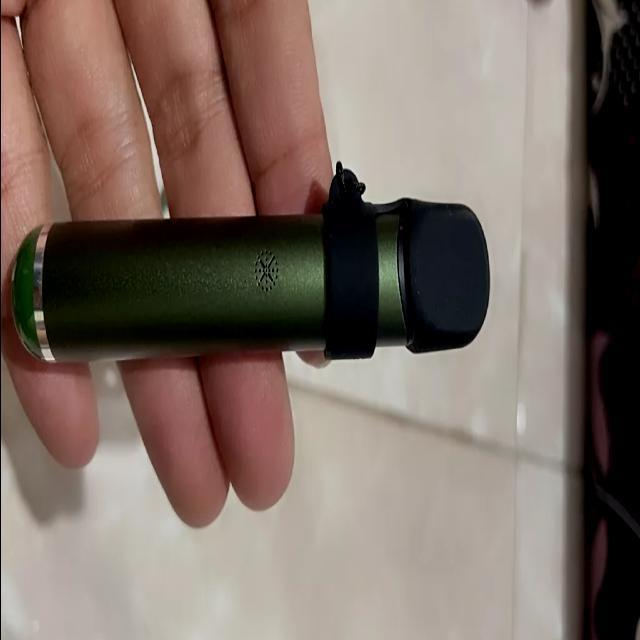Hazard: (8, 194, 490, 361)
